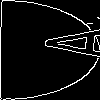A: (25, 25, 100, 60)
